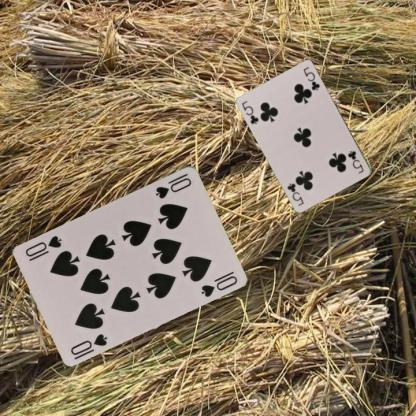10s: (153, 170, 193, 200), (68, 330, 109, 356)
5c: (239, 98, 260, 126), (346, 148, 365, 175)
